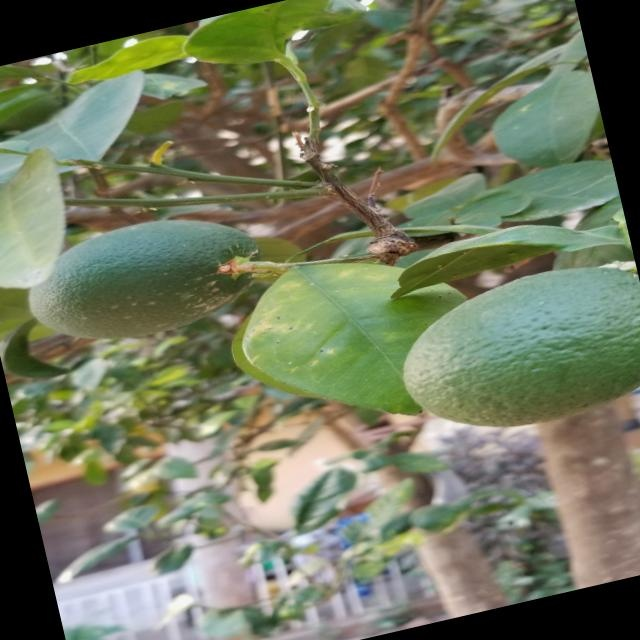agrume: (378, 249, 640, 459), (19, 193, 284, 364)
